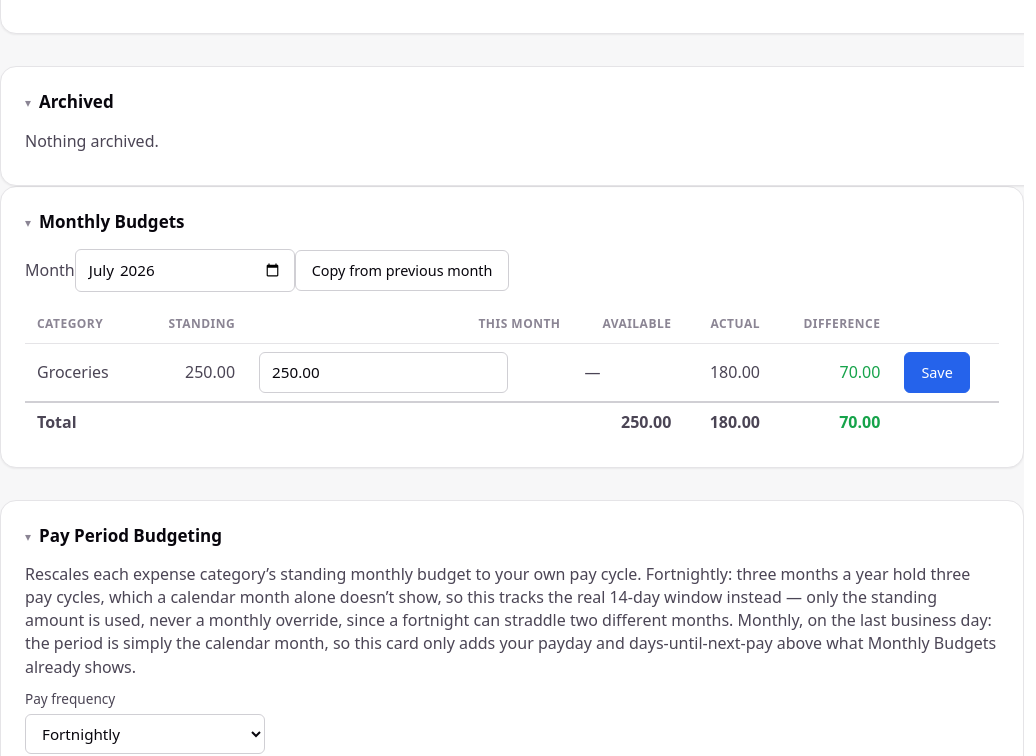
Scenario: CategoriesPage › disables Save when the input is left empty
(page scrolled)
Clear the number field named "This month's budget for Groceries". click: (384, 373)
box: [259,352,508,393]
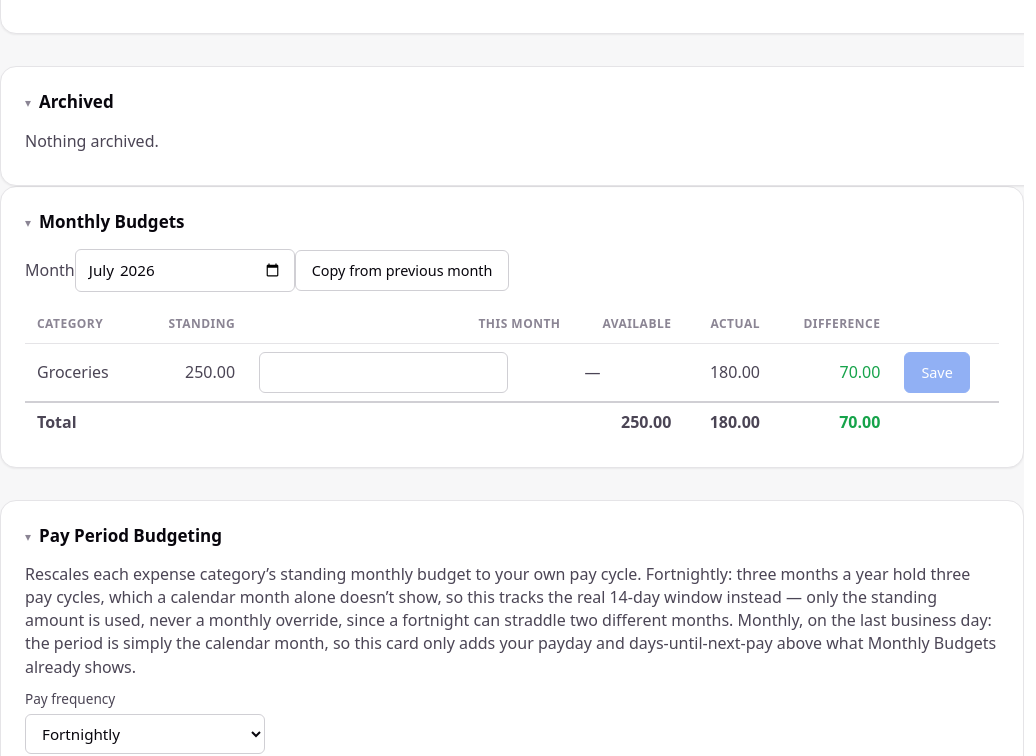
Check: the button "Save" is disabled, box [904,352,970,393]
